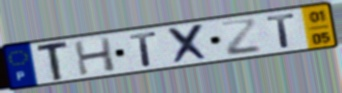H: (72, 35, 118, 77)
T: (35, 39, 71, 83), (264, 12, 298, 50), (128, 30, 159, 67)
X: (166, 22, 212, 66)
Z: (219, 18, 264, 58)
